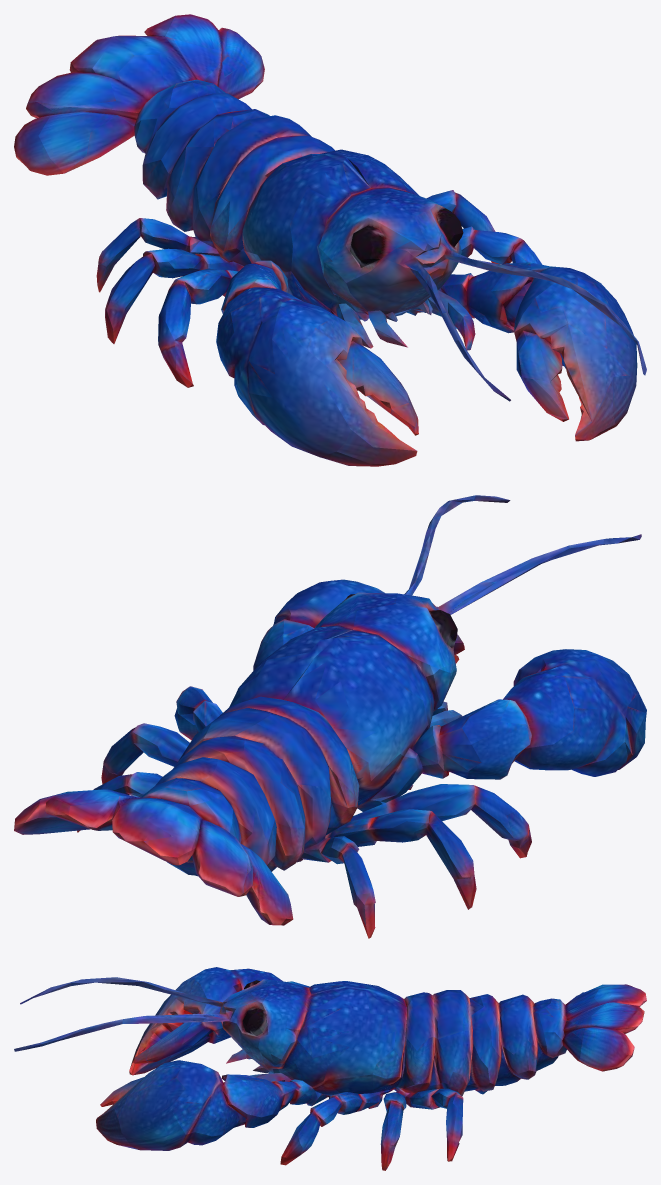
Rendered from crayfish.glb.
The picture shows the model from 3 angles, top to bottom: view 1: azimuth 30°, elevation 25°; view 2: azimuth 150°, elevation 25°; view 3: azimuth 270°, elevation 25°; orthographic projection. The views are drawn at different scales.
Size of the model in its own units: 0.5652 by 0.25 by 1.16.
1 material, 1 textured.
